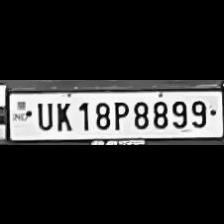1: (74, 98, 92, 130)
8: (129, 97, 149, 129), (92, 98, 110, 130), (150, 97, 168, 128)
9: (168, 96, 188, 128), (188, 96, 208, 128)
K: (52, 98, 72, 132)
P: (110, 97, 128, 129)
U: (34, 98, 54, 130)
